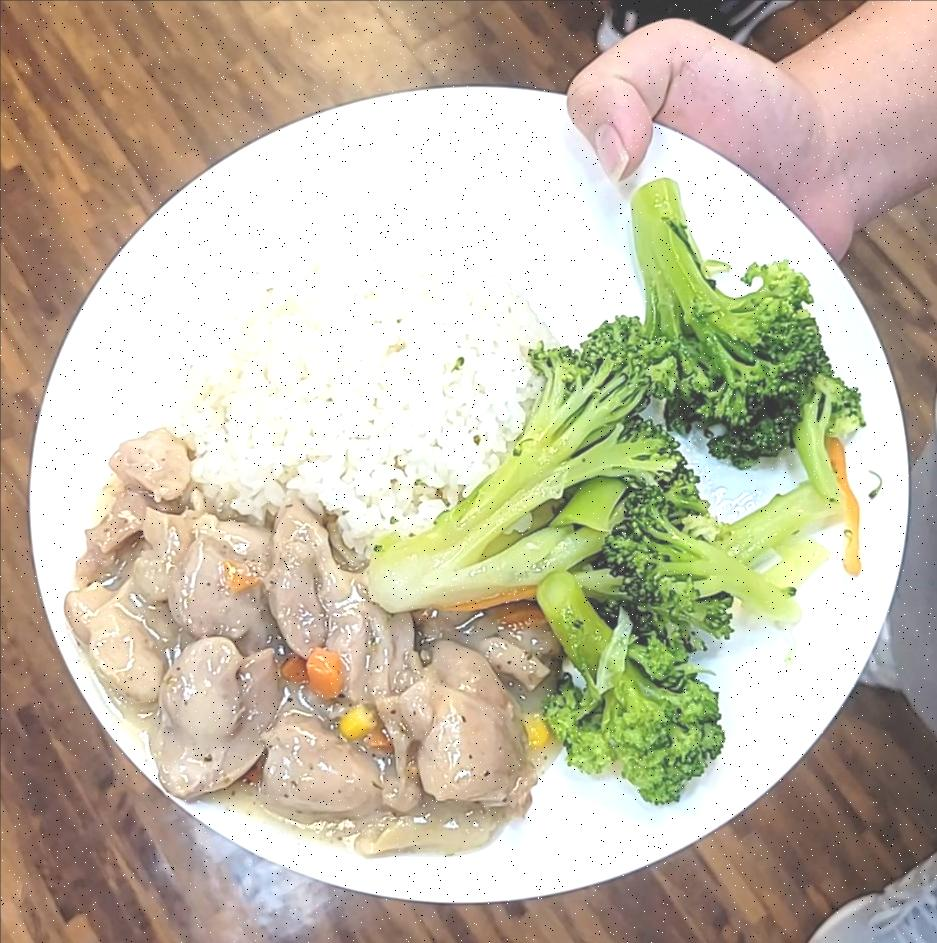plate: (22, 66, 894, 917)
side dish: (376, 167, 862, 789)
white rice: (151, 250, 552, 538)
white sauce chicken: (73, 428, 540, 861)
